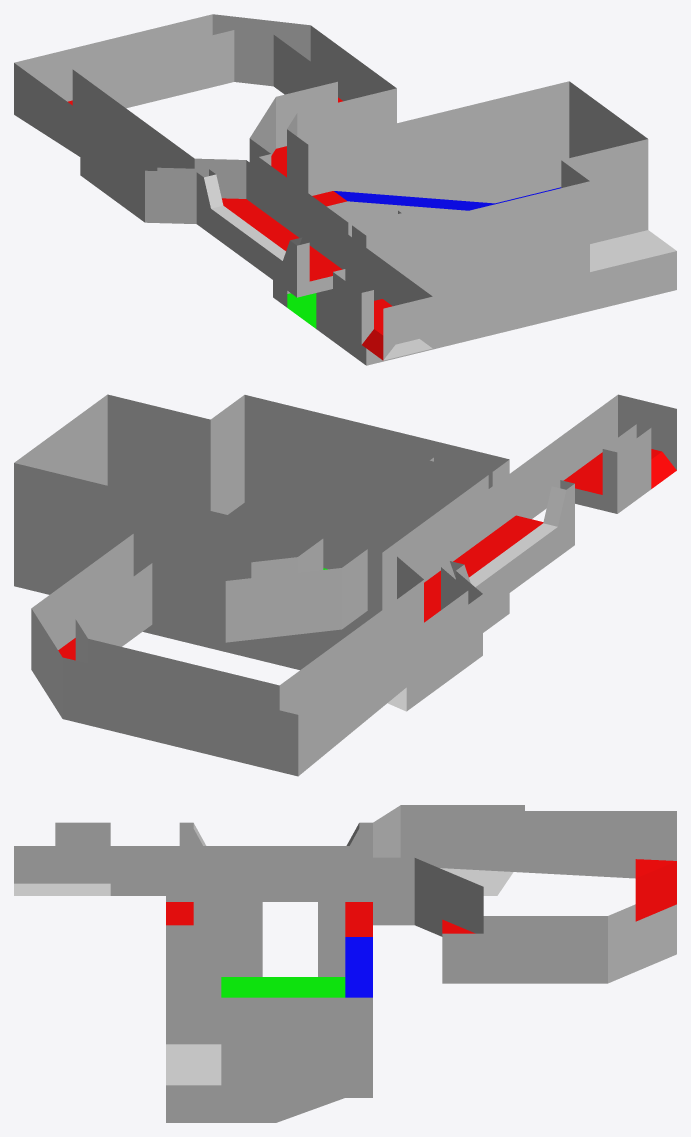
Rendered from Sala2.glb.
3 views of the same model, one above another, from view 1: azimuth 30°, elevation 25°; view 2: azimuth 150°, elevation 25°; view 3: azimuth 270°, elevation 25° (orthographic). The views are drawn at different scales.
Visible parts, largest first — view 1: Sala2; view 2: Sala2; view 3: Sala2.
Part boxes in pixels (x1,y1,x2,y2): Sala2: (14,14,676,365); Sala2: (14,394,676,776); Sala2: (14,805,676,1122).
Size of the model in its own units: 33 by 10 by 48.
